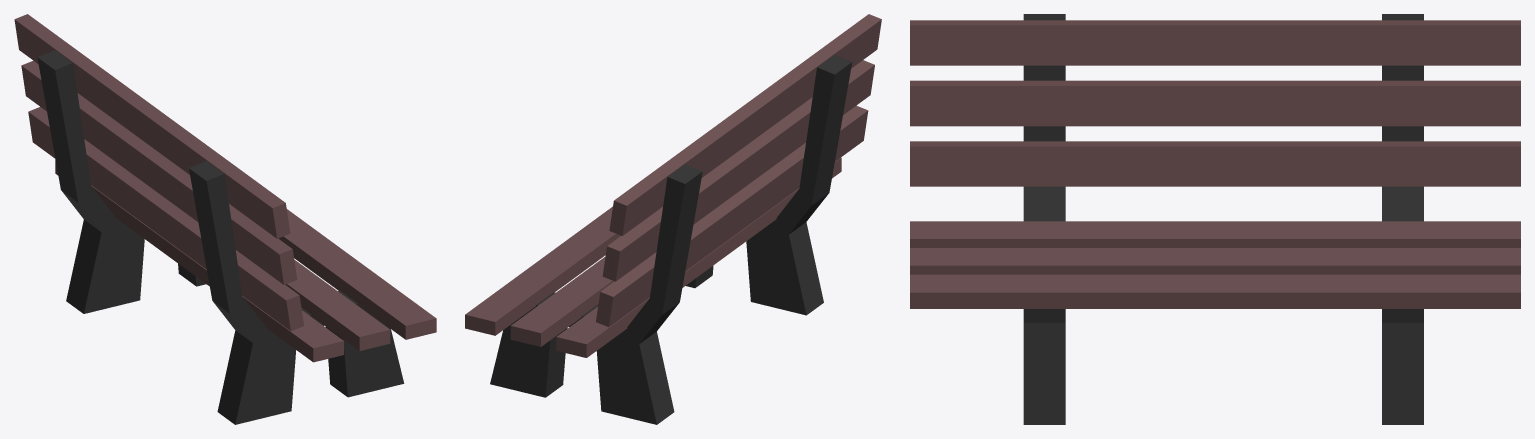
The model's file is bench.glb.
The picture shows the model from 3 angles, left to right: view 1: azimuth 30°, elevation 25°; view 2: azimuth 150°, elevation 25°; view 3: azimuth 270°, elevation 25°; orthographic projection. The views are drawn at different scales.
Visible parts, largest first — view 1: Cube.005, Cube.007; view 2: Cube.005, Cube.007; view 3: Cube.005, Cube.007.
Boxes of the visible parts, <box> form: Cube.005: <box>14,14,436,362</box>; Cube.007: <box>37,50,404,424</box>; Cube.005: <box>465,14,881,357</box>; Cube.007: <box>490,54,852,424</box>; Cube.005: <box>910,20,1520,308</box>; Cube.007: <box>1023,14,1423,424</box>.
Bounding box in the file's own units: 2.63 × 3.26 × 5.94.
